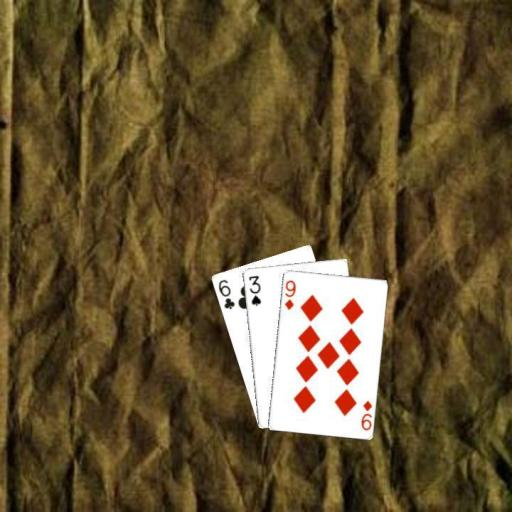card-corner: (215, 276, 236, 311), (246, 272, 262, 308), (282, 276, 297, 310), (358, 398, 373, 432)
